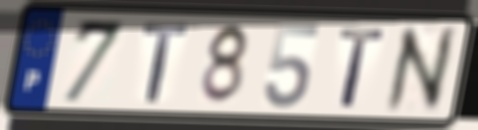5: (261, 22, 322, 111)
7: (61, 16, 128, 105)
8: (196, 22, 250, 108)
N: (382, 23, 458, 117)
T: (336, 25, 388, 111), (140, 21, 191, 106)
